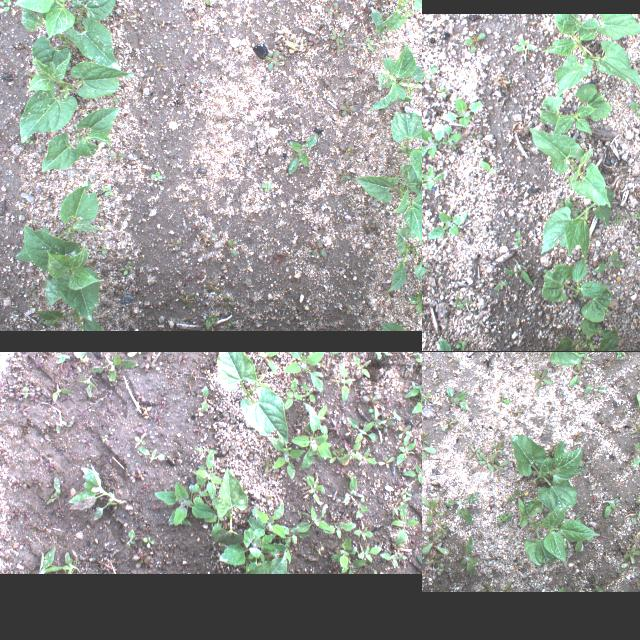crop: (11, 177, 108, 329), (15, 51, 136, 153), (12, 0, 125, 81), (542, 13, 640, 98), (528, 128, 610, 206), (216, 352, 287, 442), (510, 434, 588, 512), (38, 107, 124, 173), (517, 496, 599, 564), (542, 187, 614, 261), (351, 174, 422, 242), (540, 258, 612, 322), (369, 40, 422, 110), (539, 84, 611, 134), (214, 466, 248, 546), (388, 224, 422, 292), (553, 314, 617, 350), (370, 0, 422, 44), (392, 114, 422, 190), (563, 13, 640, 39), (504, 352, 587, 365), (243, 551, 287, 573), (598, 336, 622, 350)
weed: (218, 506, 288, 574), (68, 464, 126, 520), (291, 405, 331, 471), (154, 481, 214, 525), (283, 352, 325, 392), (268, 436, 306, 480), (253, 501, 289, 541), (86, 352, 135, 380), (196, 450, 222, 500), (440, 98, 484, 126), (290, 503, 332, 532), (288, 132, 316, 174), (38, 544, 76, 574), (428, 211, 468, 239), (344, 476, 370, 518), (444, 492, 478, 524), (391, 508, 419, 544), (572, 514, 596, 554), (404, 375, 422, 428), (422, 528, 449, 561), (204, 497, 224, 541), (347, 415, 378, 443), (504, 258, 534, 286), (303, 402, 327, 436), (332, 536, 356, 570), (422, 121, 444, 157), (459, 536, 478, 576), (193, 464, 210, 508), (594, 250, 624, 274), (511, 36, 539, 60), (251, 352, 279, 376), (396, 433, 416, 465), (422, 492, 447, 517), (306, 474, 326, 504), (568, 358, 588, 388), (422, 165, 445, 190), (339, 362, 353, 402), (46, 476, 62, 510), (323, 522, 357, 538), (284, 379, 302, 409), (378, 550, 408, 568), (446, 386, 468, 410), (264, 48, 284, 74), (78, 372, 98, 398), (596, 497, 622, 517), (52, 382, 74, 404), (442, 124, 462, 148), (340, 439, 360, 463), (530, 368, 554, 388), (324, 22, 350, 40), (353, 353, 371, 379), (401, 463, 422, 483), (422, 431, 436, 461), (356, 446, 376, 466), (478, 452, 498, 472), (564, 197, 580, 221), (358, 545, 382, 561), (621, 544, 640, 564), (340, 559, 366, 573), (138, 446, 164, 459), (408, 289, 422, 313), (552, 440, 564, 468), (353, 525, 373, 541), (490, 438, 506, 458), (478, 159, 499, 173), (451, 296, 472, 310), (425, 500, 437, 524), (586, 576, 604, 592), (468, 444, 484, 461), (632, 435, 640, 469), (492, 459, 511, 473), (464, 32, 486, 44), (73, 352, 88, 369), (149, 168, 167, 182), (463, 34, 477, 52), (330, 446, 344, 464), (440, 418, 458, 432), (583, 383, 607, 393), (422, 64, 436, 81), (436, 519, 450, 535), (576, 458, 592, 472), (507, 488, 525, 500), (628, 100, 640, 116), (378, 456, 394, 468), (489, 456, 499, 474), (611, 562, 629, 572), (304, 384, 314, 401), (202, 384, 208, 412), (629, 422, 640, 437), (492, 280, 508, 290), (496, 512, 512, 522), (479, 581, 495, 591), (514, 230, 522, 248), (565, 534, 575, 548), (195, 447, 218, 453), (0, 0, 11, 12), (447, 352, 459, 363), (468, 131, 484, 139), (426, 558, 442, 566), (438, 84, 448, 96), (440, 338, 450, 350), (455, 340, 467, 350), (460, 423, 472, 433), (514, 404, 524, 416), (613, 352, 630, 359), (636, 236, 640, 265), (573, 431, 583, 442), (416, 555, 422, 573), (374, 352, 391, 358), (612, 214, 622, 224), (426, 358, 436, 368), (500, 392, 510, 402), (502, 582, 512, 592), (422, 392, 431, 403), (422, 432, 429, 444), (434, 375, 442, 385), (548, 446, 556, 456), (128, 352, 150, 355), (439, 563, 445, 573), (634, 209, 640, 218), (634, 493, 640, 502), (622, 215, 630, 221), (634, 373, 640, 381), (557, 586, 565, 592), (637, 365, 640, 375)
